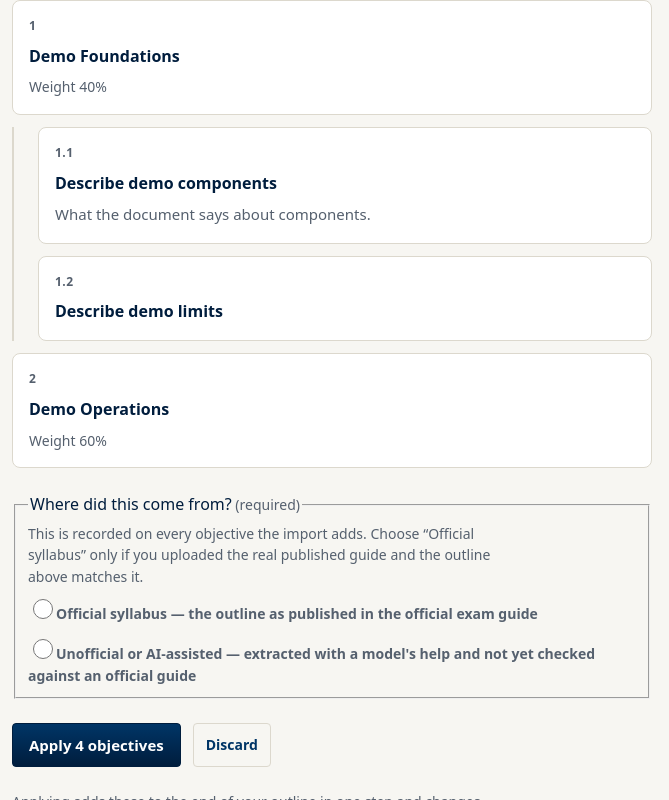
Test: ObjectiveImportConfirm › the source-type choice › refuses to apply with no choice made
The image size is (669, 800).
Click the button "Apply 4 objectives". click: (96, 745)
box: [12,723,181,767]
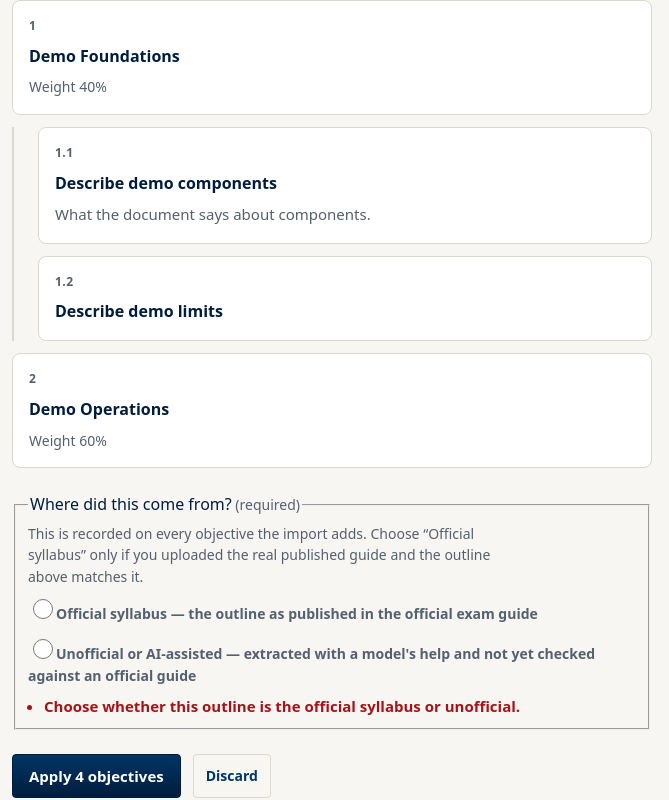
Check: the list item "Choose whether this outline is the official syllabus or unofficial." is shown, box [44,696,520,716]
